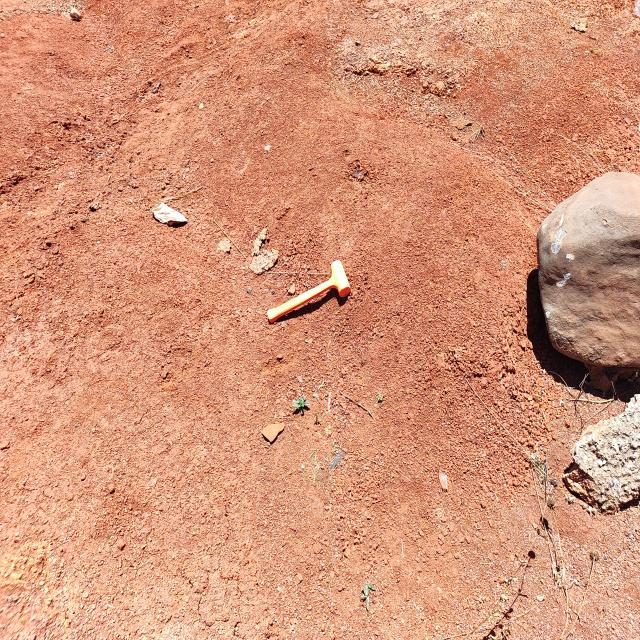Orange_hammer: (266, 259, 351, 324)
